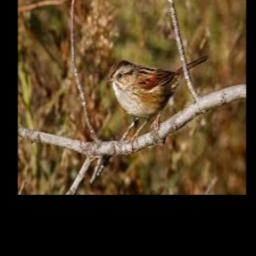Sparrow: (106, 56, 208, 151)
